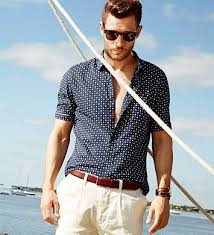F_belt: (66, 166, 154, 201)
